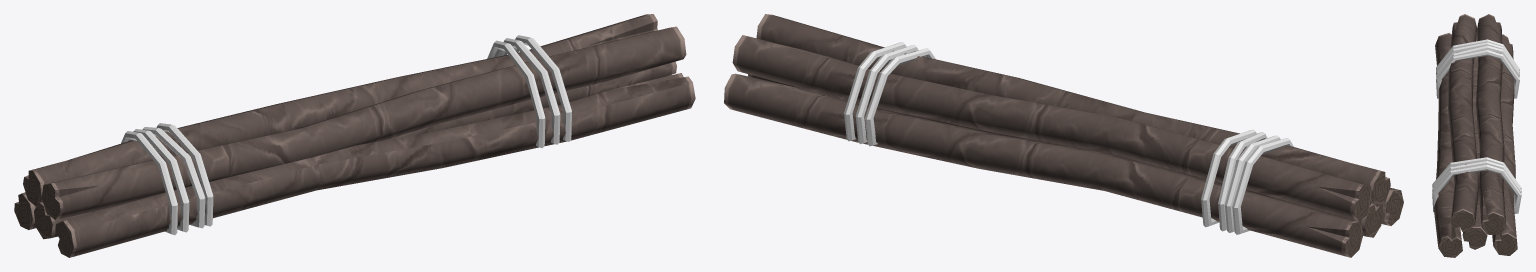
The model's file is SM_LogPile.fbx.
The picture shows the model from 3 angles, left to right: view 1: azimuth 30°, elevation 25°; view 2: azimuth 150°, elevation 25°; view 3: azimuth 270°, elevation 25°; orthographic projection. The views are drawn at different scales.
Parts seen in each view (by area): view 1: Cylinder005, Circle013; view 2: Cylinder005, Circle013; view 3: Cylinder005, Circle013.
Part boxes in pixels (x1,y1,x2,y2): Cylinder005: (14, 14, 695, 257); Circle013: (121, 35, 571, 235); Cylinder005: (724, 14, 1403, 257); Circle013: (844, 42, 1293, 234); Cylinder005: (1433, 14, 1517, 257); Circle013: (1432, 39, 1521, 213).
Size of the model in its own units: 535 by 69.6 by 102.
